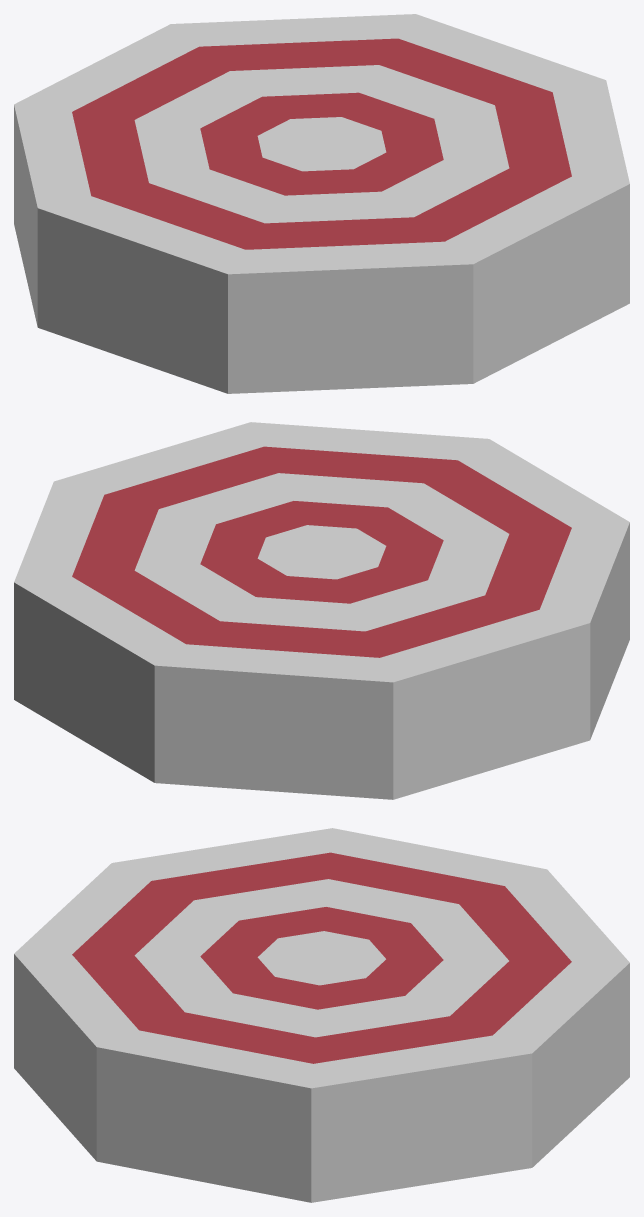
Rendered from Target.fbx.
3 views of the same model, one above another, from view 1: azimuth 30°, elevation 25°; view 2: azimuth 150°, elevation 25°; view 3: azimuth 270°, elevation 25° (orthographic). The views are drawn at different scales.
Parts seen in each view (by area): view 1: Target.005; view 2: Target.005; view 3: Target.005.
Boxes of the visible parts, box(x1,y1,x2,y2) form: Target.005: box(14, 14, 629, 393); Target.005: box(14, 422, 629, 799); Target.005: box(14, 828, 629, 1202).
Bounding box in the file's own units: 52.64 × 10.8 × 52.64.
